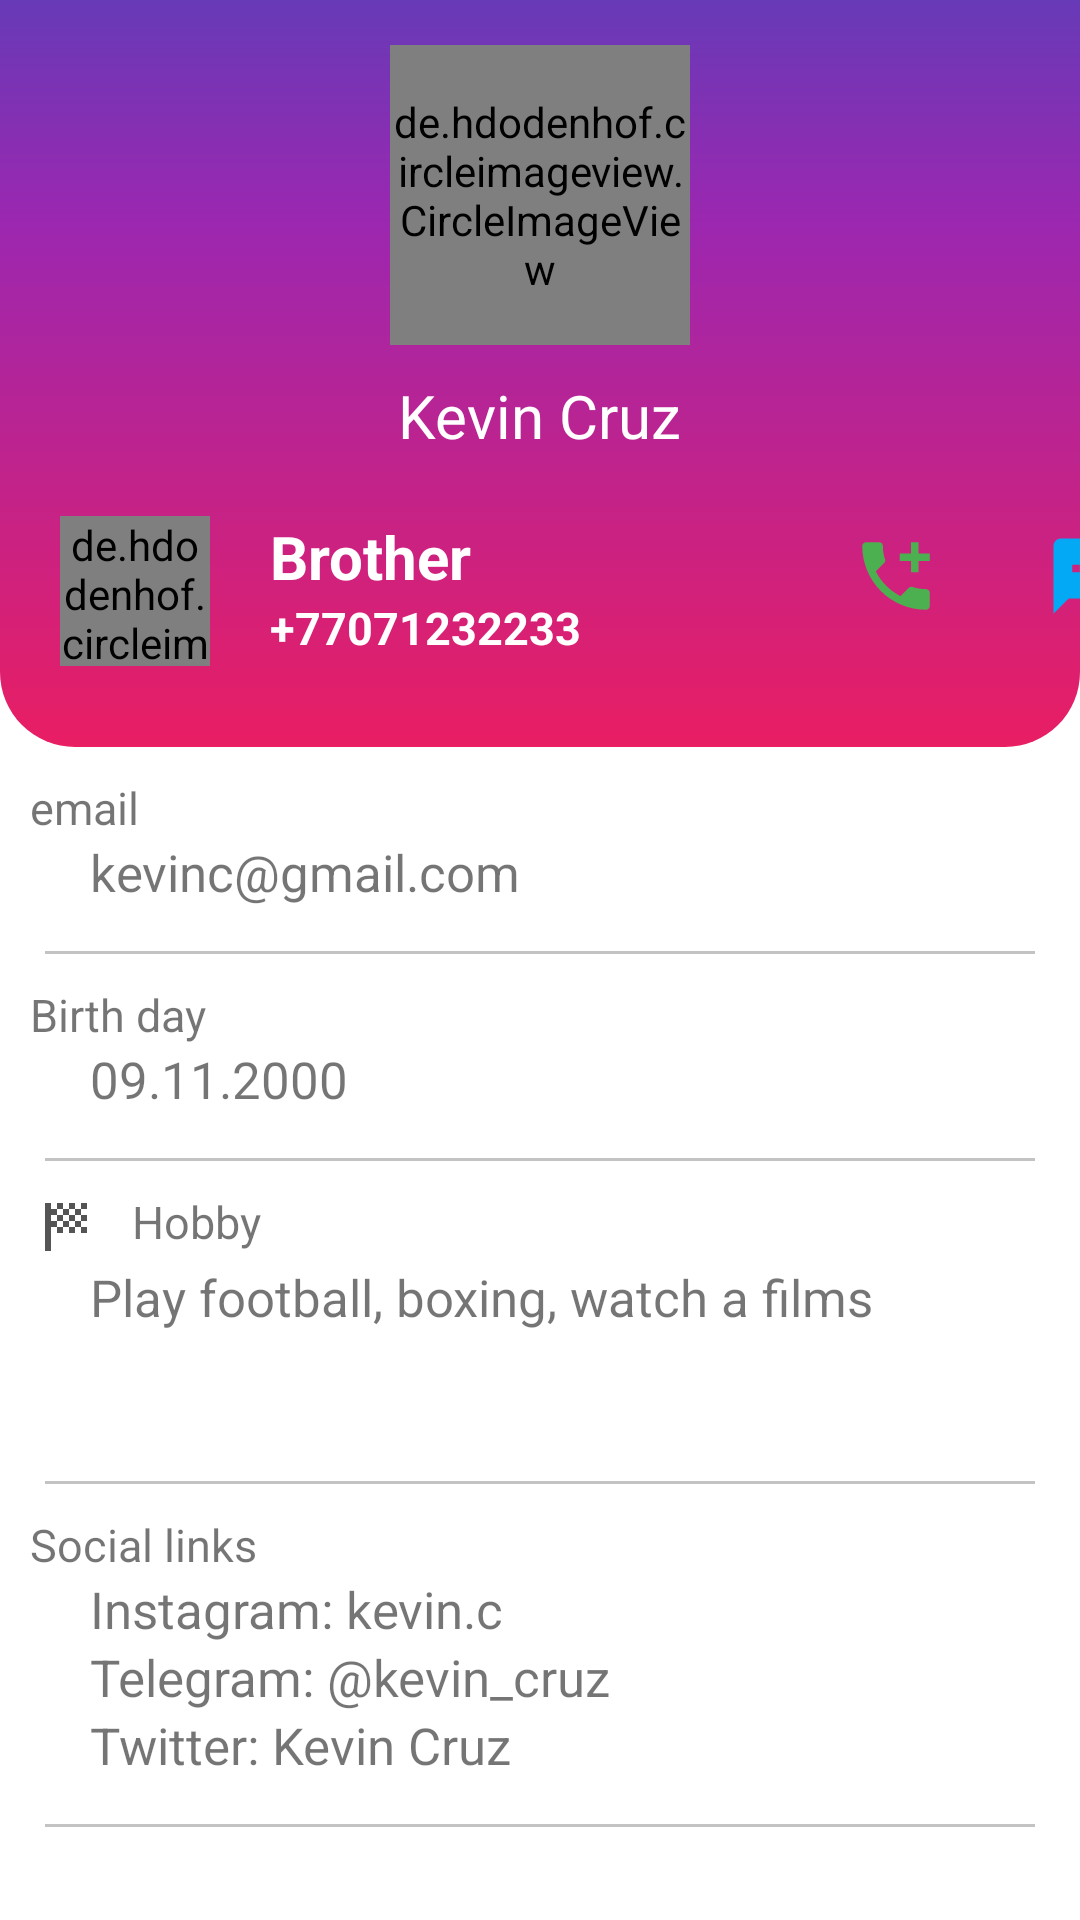

Where to tap for icons on this 1080px x 1920px app screen, as (x=x, y=y):
call: (x=896, y=576)
